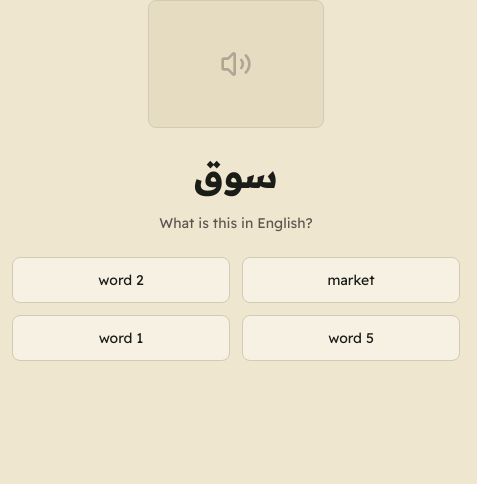
Test: multiple choice › reports a right answer
Click the button "market" at (351, 280), box x1=242 y1=257 x2=460 y2=303
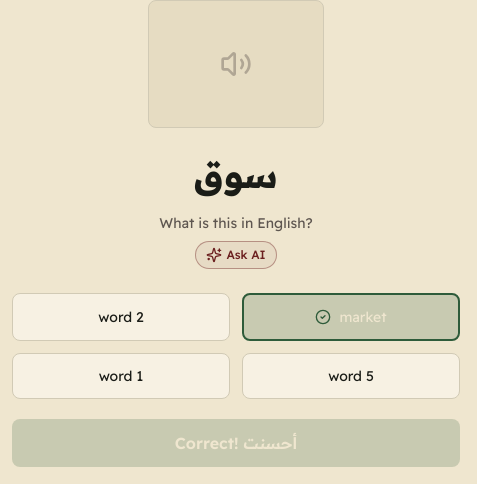
Expected: the text "Correct! أحسنت" is shown, x1=12 y1=419 x2=460 y2=467
